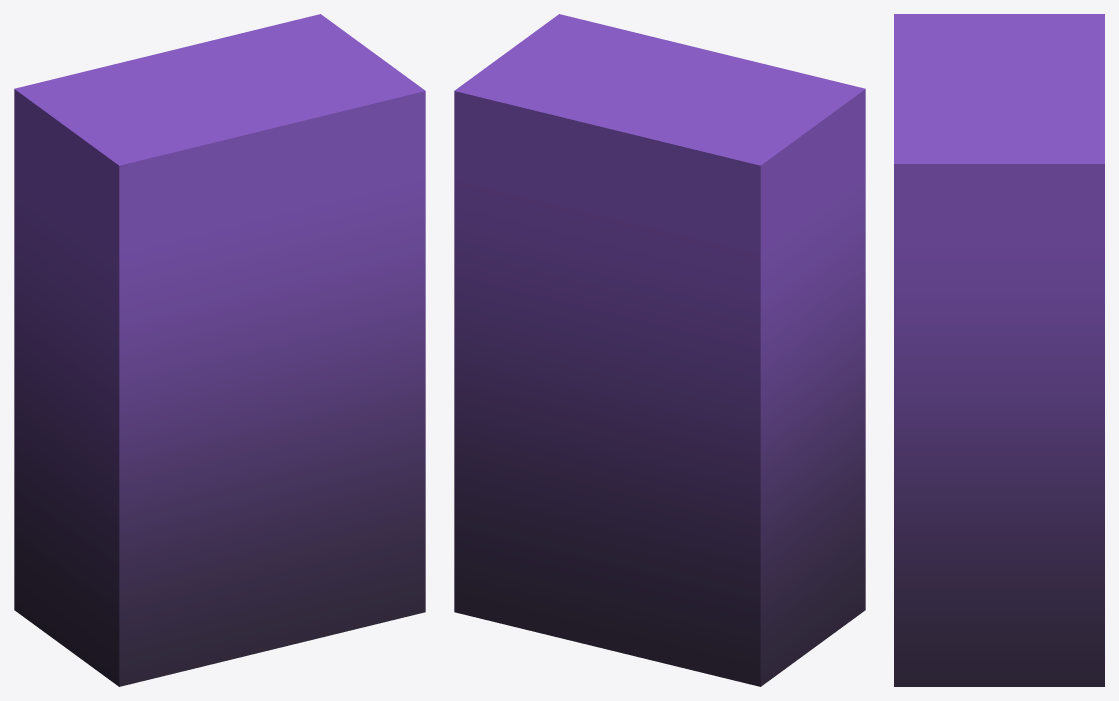
File: Plat01.011.glb
The picture shows the model from 3 angles, left to right: view 1: azimuth 30°, elevation 25°; view 2: azimuth 150°, elevation 25°; view 3: azimuth 270°, elevation 25°; orthographic projection.
Parts seen in each view (by area): view 1: Plat01.011; view 2: Plat01.011; view 3: Plat01.011.
Part boxes in pixels (x1,y1,x2,y2): Plat01.011: (14, 14, 425, 686); Plat01.011: (454, 14, 865, 686); Plat01.011: (894, 14, 1104, 686).
Size of what is drawn, in the model's own units: 2.81 by 4.57 by 1.67.
1 material, 1 textured.
